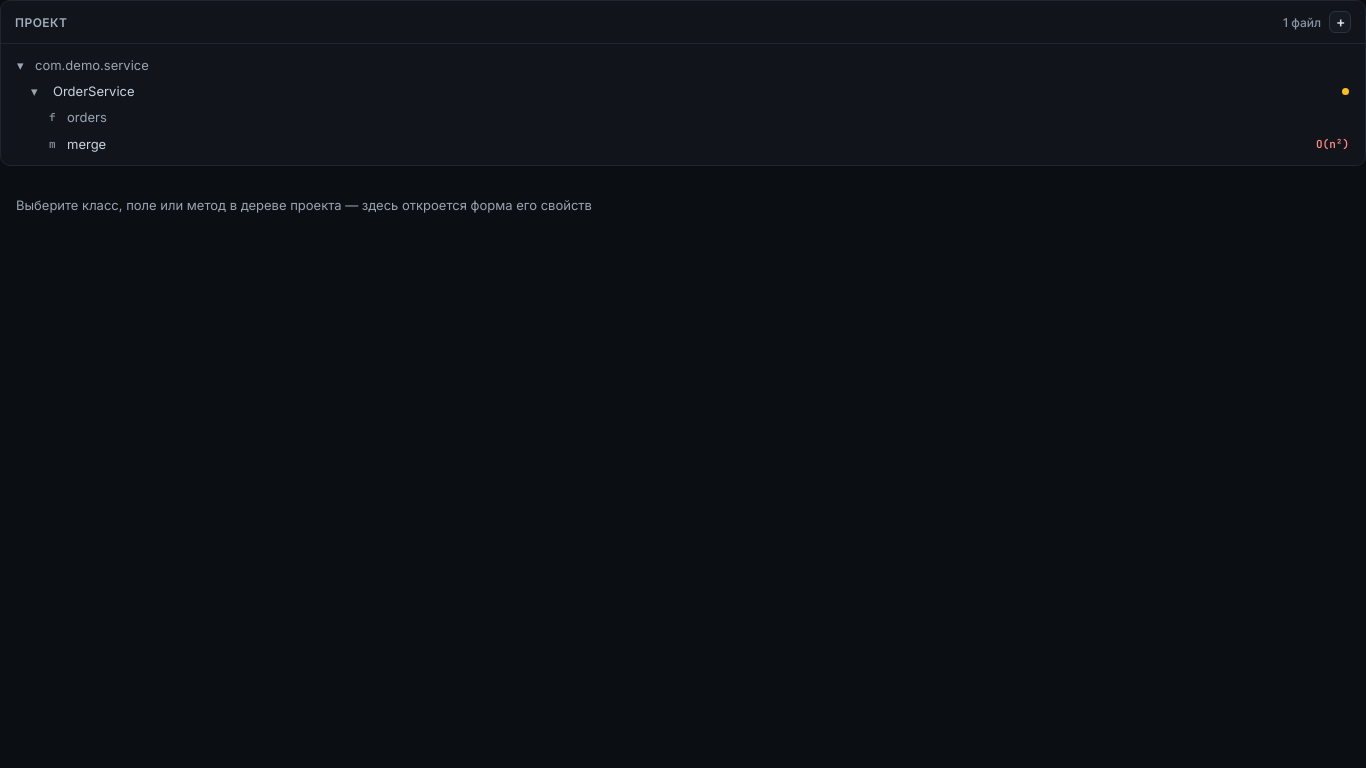
Test case: формы структуры (FE-10) › старый бэк без headerStart/headerEnd — форма только для чтения
expect the list with test id "project-tree" is shown: met, box [7,52,1359,157]
Click the button "OrderService": (94, 91) [53,78,1349,104]
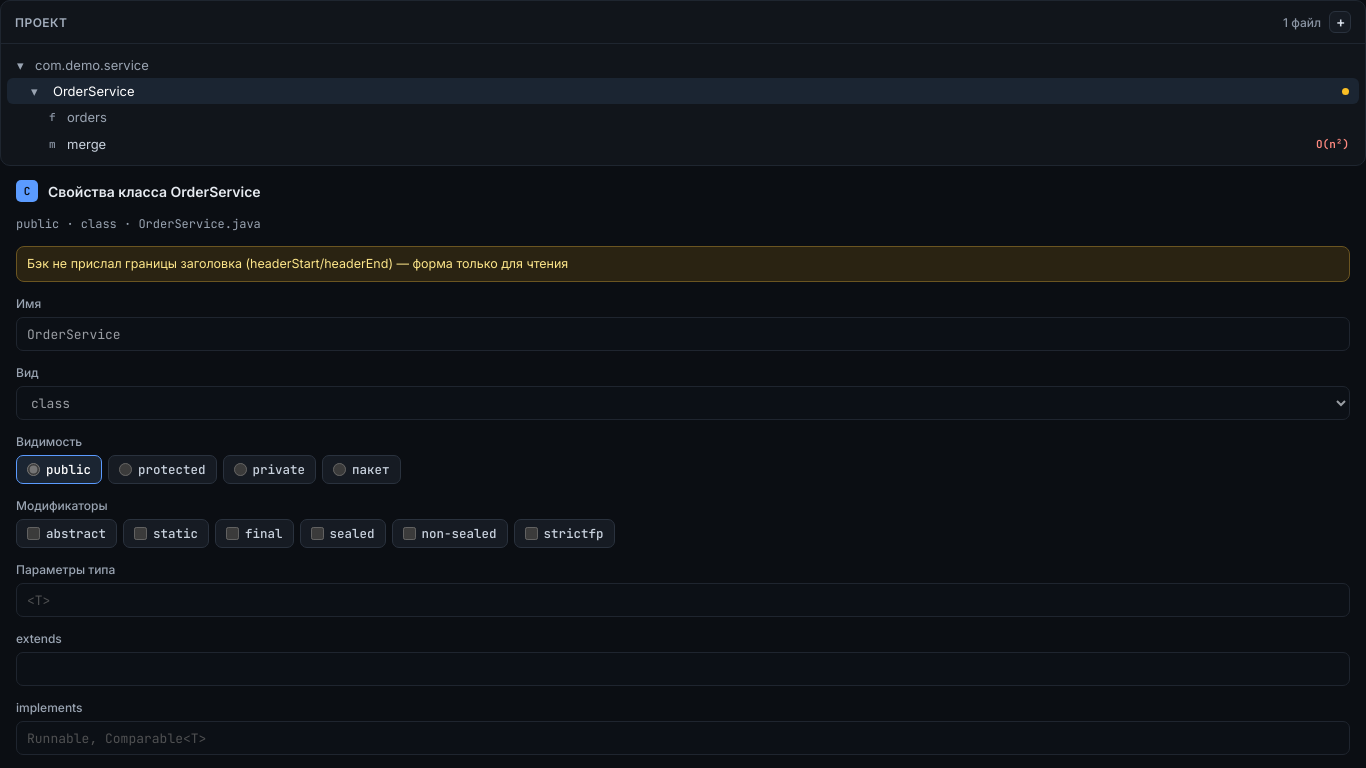
expect the text "форма только для чтения" is shown: met, box [27,256,568,271]
expect the field labelled "Имя" is disabled: met, box [16,317,1350,351]
